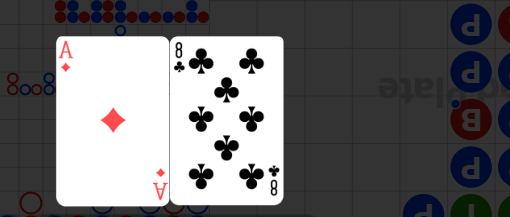8C: (266, 163, 280, 197)
AD: (59, 41, 75, 75)
